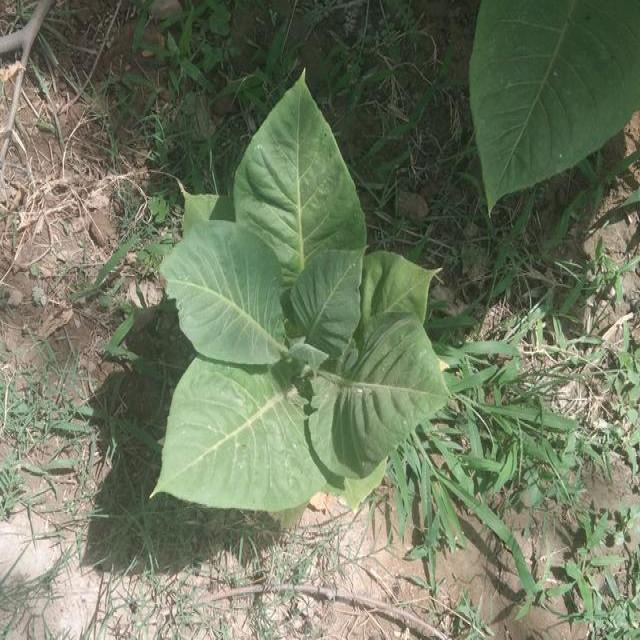crop: (152, 72, 441, 530)
